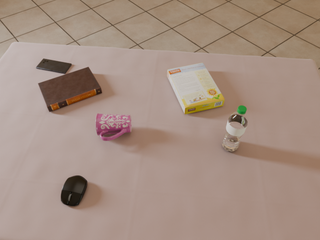book: (38, 67, 102, 112)
bottle: (222, 106, 248, 152)
box: (167, 63, 225, 114)
cup: (96, 113, 131, 141)
mouse: (61, 176, 87, 206)
phone: (36, 59, 72, 74)
